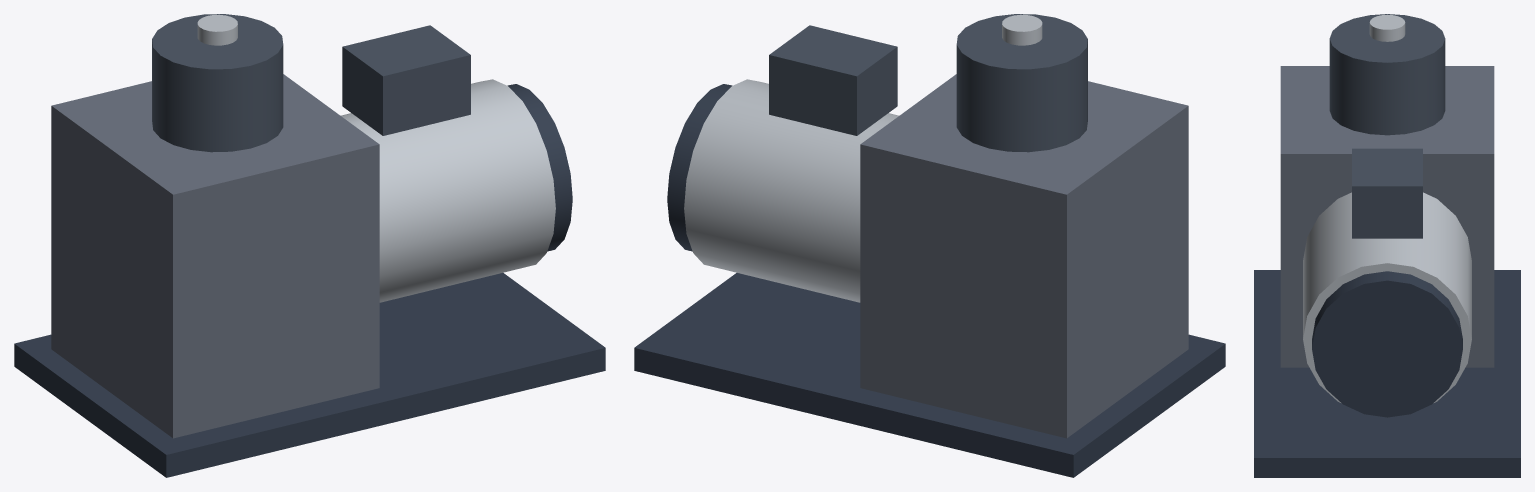
Rendered from mixer-drive.glb.
The picture shows the model from 3 angles, left to right: view 1: azimuth 30°, elevation 25°; view 2: azimuth 150°, elevation 25°; view 3: azimuth 270°, elevation 25°; orthographic projection. The views are drawn at different scales.
Visible parts, largest first — view 1: mixer-drive; view 2: mixer-drive; view 3: mixer-drive.
Part boxes in pixels (<box>): mixer-drive: <box>14,14,605,477</box>; mixer-drive: <box>634,14,1225,477</box>; mixer-drive: <box>1254,14,1520,477</box>.
Bounding box in the file's own units: 1 × 0.8 × 0.6.
